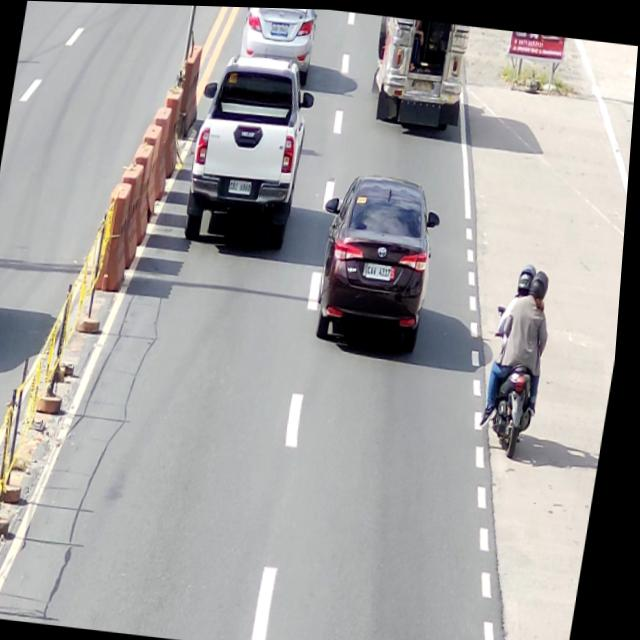Car: (182, 47, 321, 250), (308, 167, 449, 351), (237, 6, 318, 59)
Jeep: (366, 13, 474, 129)
License-Plate: (367, 255, 400, 283), (410, 72, 440, 94), (266, 16, 293, 40), (228, 173, 256, 196)
Motorcycle: (480, 300, 554, 457)
